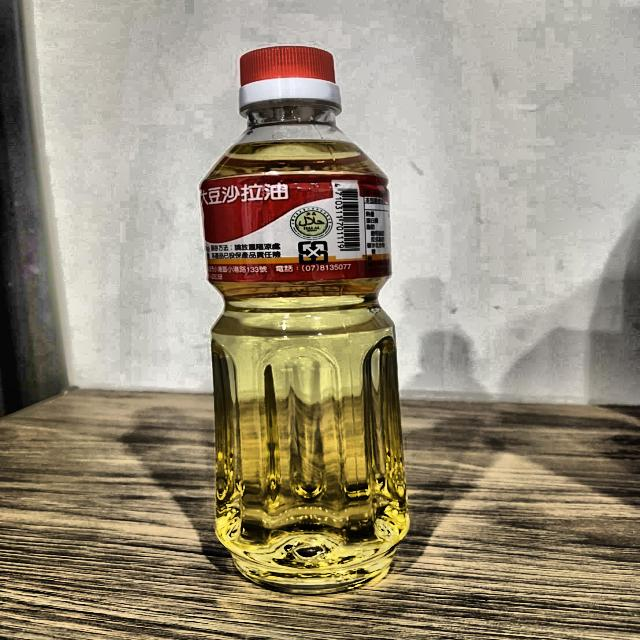Bottles: (193, 36, 435, 600)
